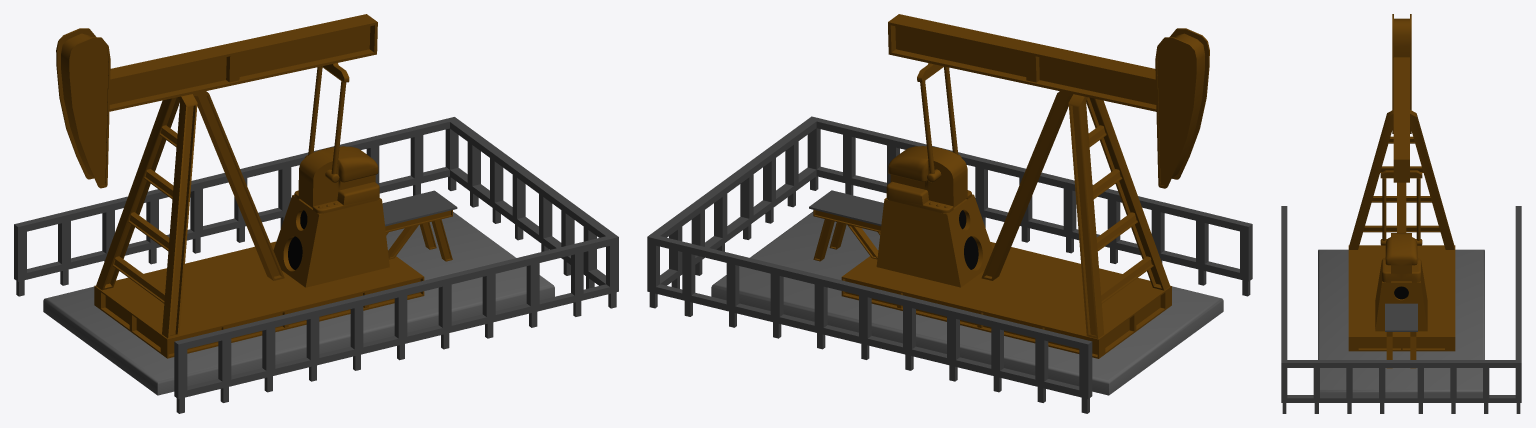
The model's file is OilDrill.fbx.
The picture shows the model from 3 angles, left to right: view 1: azimuth 30°, elevation 25°; view 2: azimuth 150°, elevation 25°; view 3: azimuth 270°, elevation 25°; orthographic projection. The views are drawn at different scales.
Parts seen in each view (by area): view 1: Drill; view 2: Drill; view 3: Drill.
Part boxes in pixels (x1,y1,x2,y2): Drill: (14, 14, 618, 413); Drill: (647, 14, 1252, 413); Drill: (1281, 14, 1521, 413).
Bounding box in the file's own units: 853 × 557 × 513.
